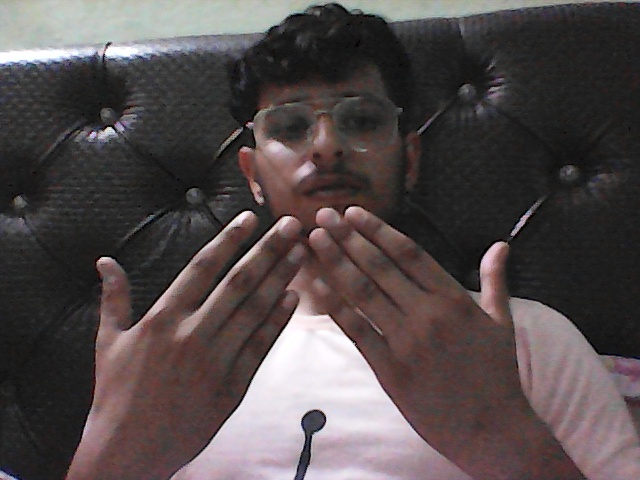thankyou: (47, 202, 531, 464)
